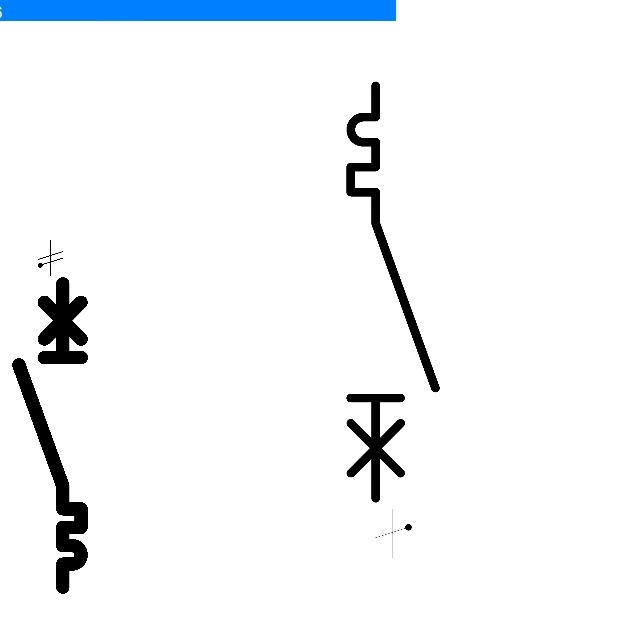interruptor_termomagnetico: (340, 75, 446, 509), (11, 276, 89, 595)
